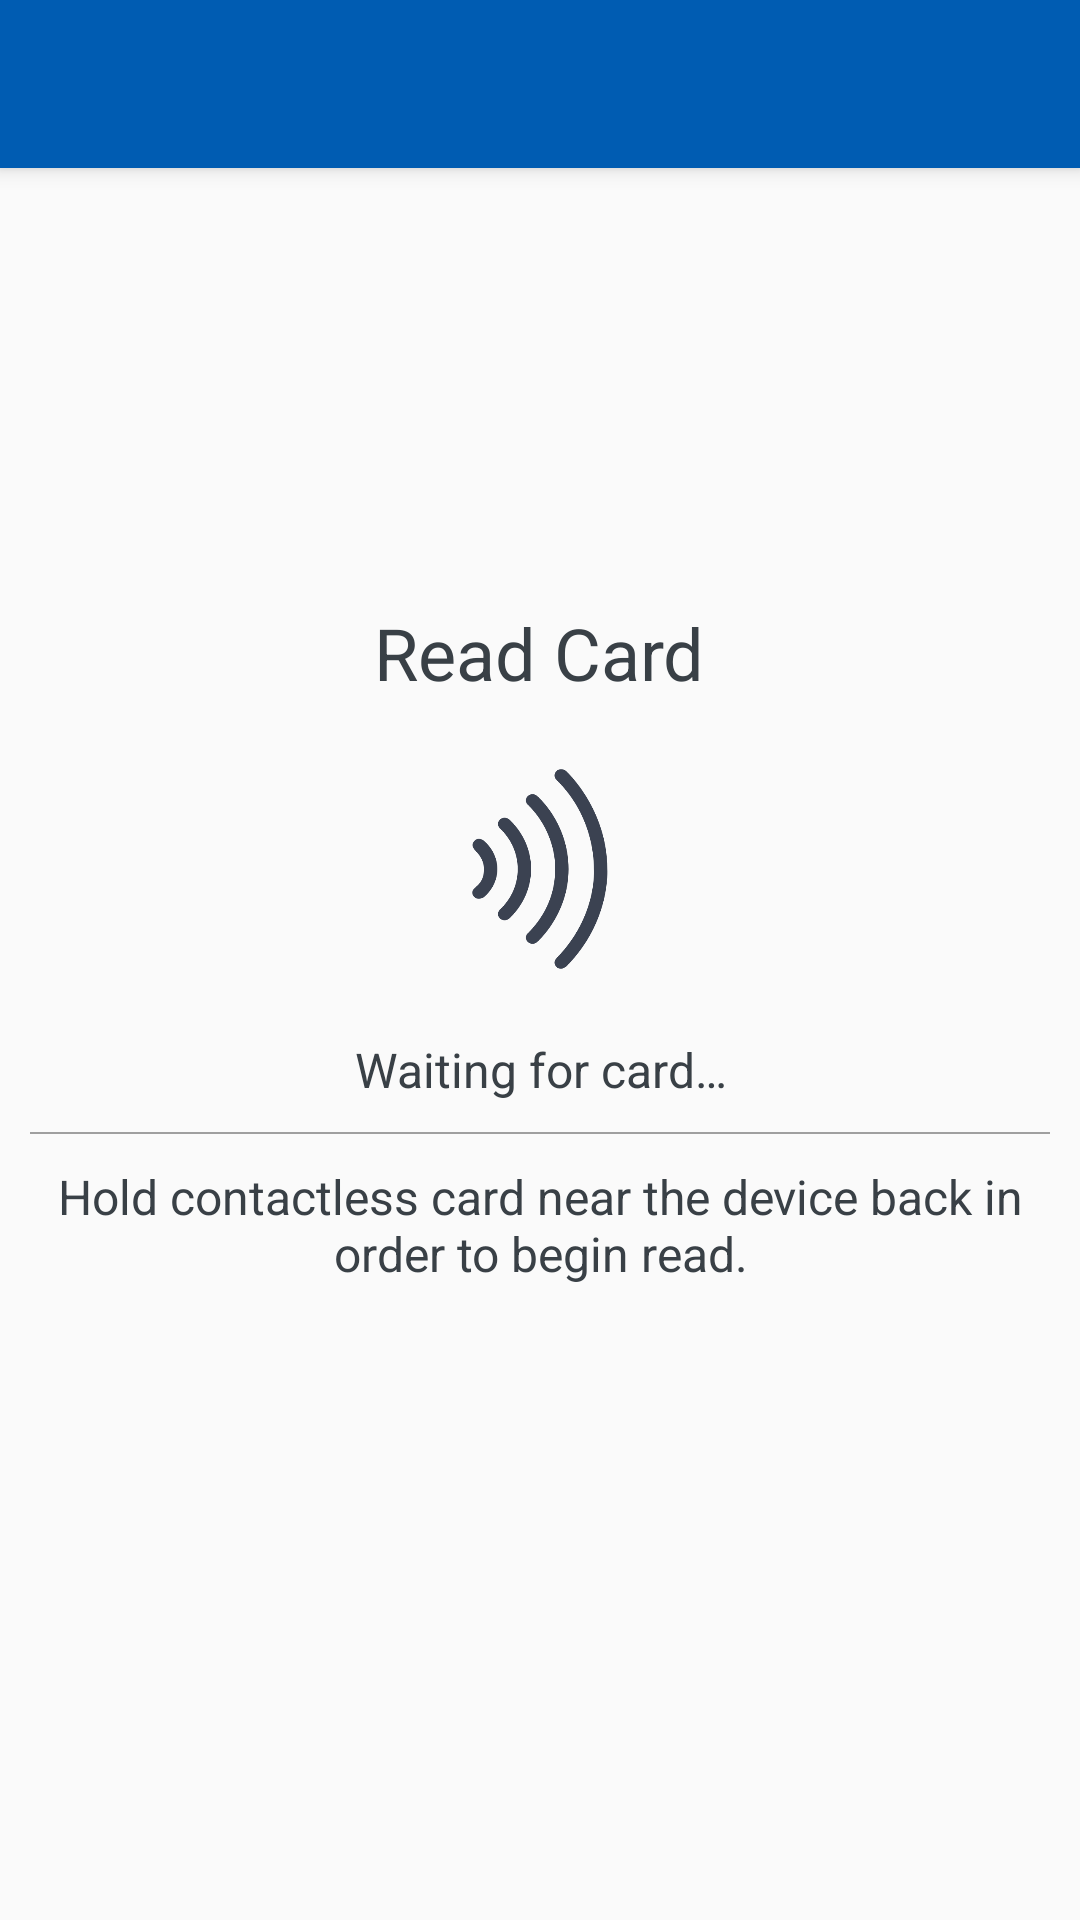

Icons on this 1080*1920 Android screen, each with its box as Rect(x1, y1, x2, y2):
Contactless: Rect(472, 769, 608, 969)
